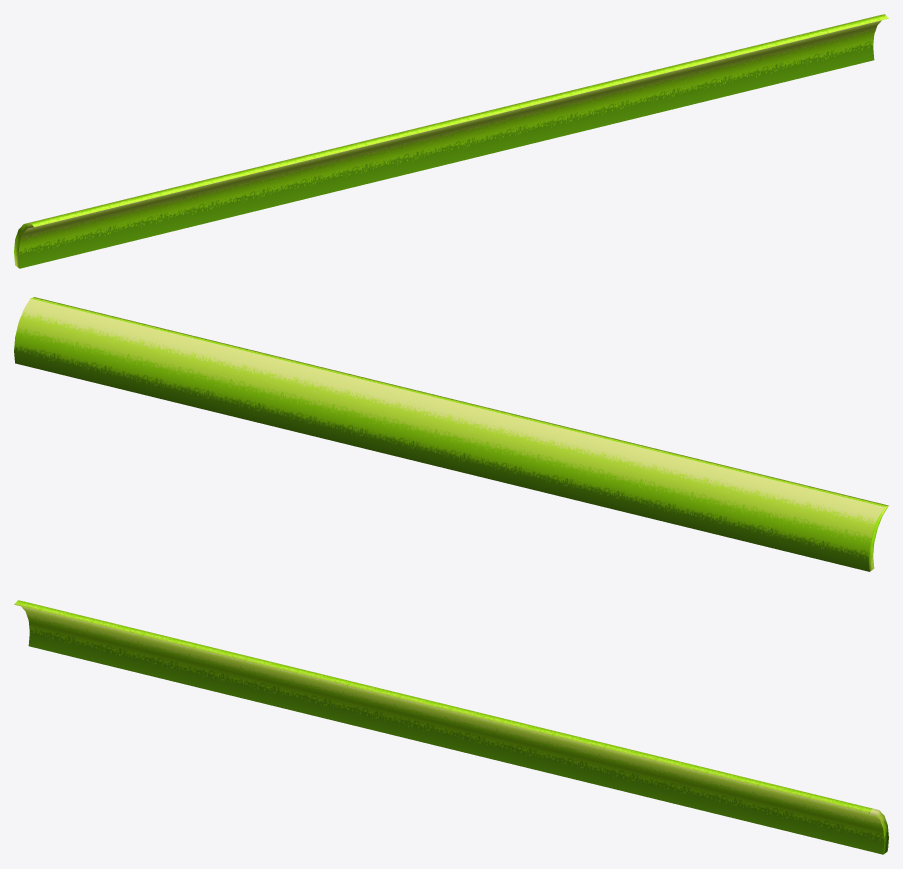
The model's file is Wonky Wave.fbx.
3 views of the same model, one above another, from view 1: azimuth 30°, elevation 25°; view 2: azimuth 150°, elevation 25°; view 3: azimuth 330°, elevation 25° (orthographic).
Visible parts, largest first — view 1: Wonky_Wave; view 2: Wonky_Wave; view 3: Wonky_Wave.
Part boxes in pixels (x1=…): Wonky_Wave: x1=14, y1=14, x2=888, y2=268; Wonky_Wave: x1=14, y1=297, x2=888, y2=571; Wonky_Wave: x1=14, y1=600, x2=888, y2=854.
Size of the model in its own units: 747 by 44.93 by 30.8.
